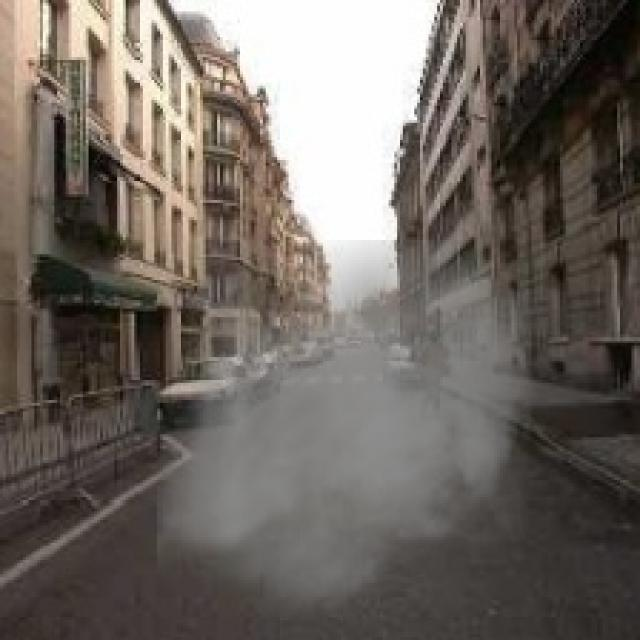Smoke: (157, 240, 537, 629)
